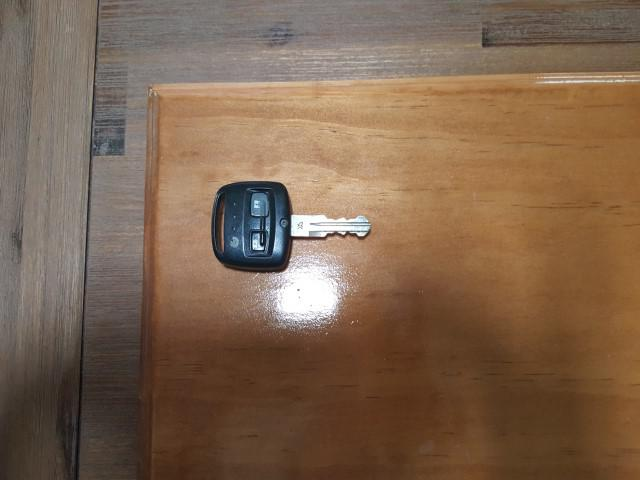key: (210, 181, 372, 372)
